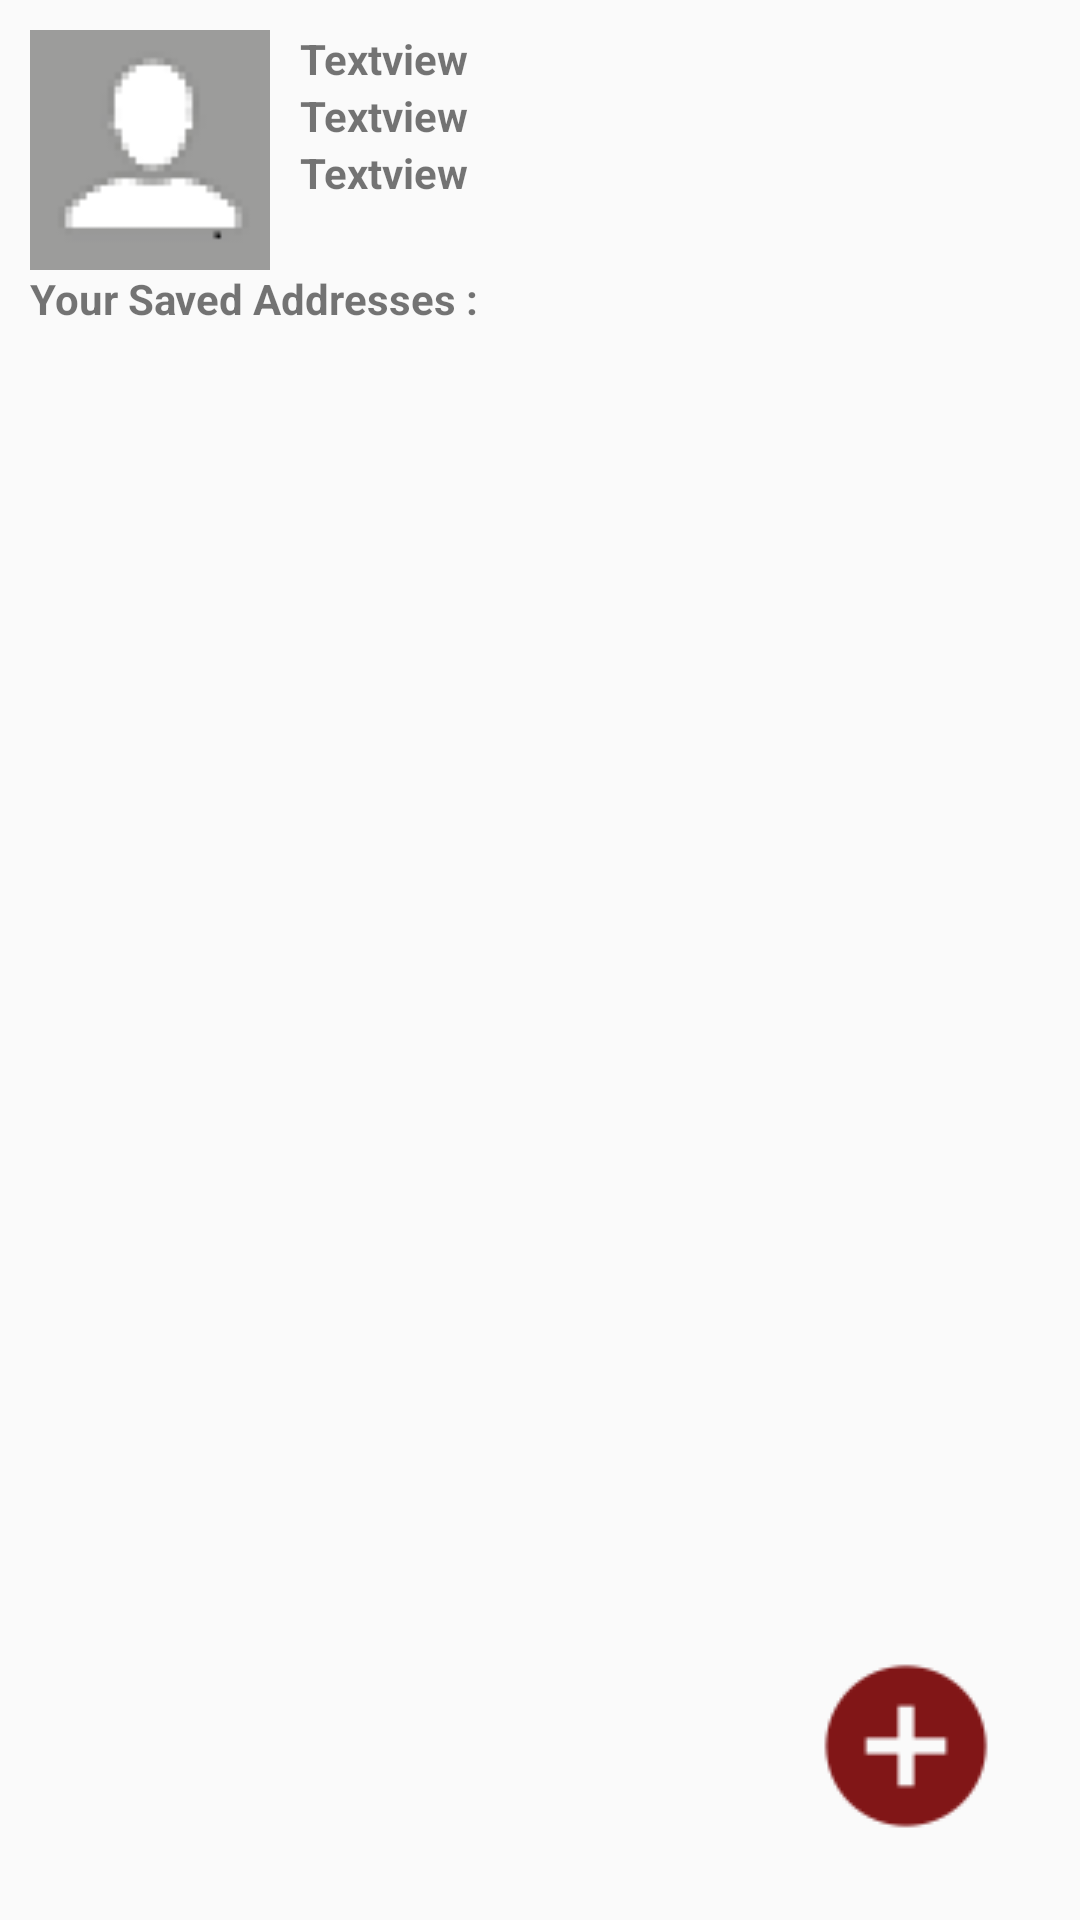

Screen size 1080×1920. Icon name, then its box in pixels as {"x1": x1, "y1": y1, "x2": x2, "y2": y2}:
addplus: {"x1": 824, "y1": 1664, "x2": 988, "y2": 1828}
profl: {"x1": 30, "y1": 30, "x2": 270, "y2": 270}
